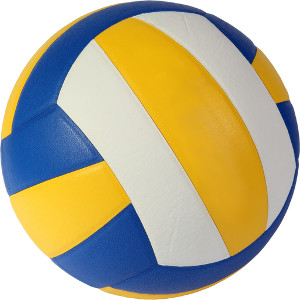volleyball: (1, 2, 300, 296)
